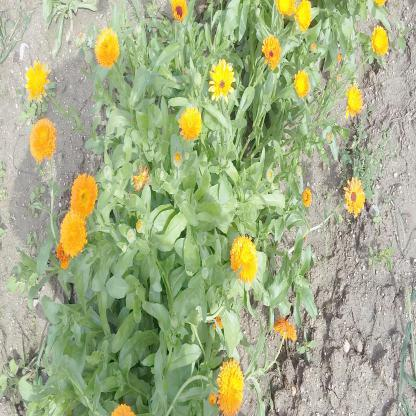marigold: (218, 359, 244, 412), (61, 210, 89, 254), (28, 122, 58, 161), (230, 234, 256, 278), (71, 176, 96, 214), (25, 61, 50, 98), (210, 59, 233, 99), (178, 106, 204, 138), (344, 176, 365, 212), (96, 31, 119, 63), (370, 24, 389, 58), (263, 36, 281, 68), (345, 84, 363, 114), (296, 0, 310, 32), (295, 70, 309, 97), (172, 0, 186, 22), (276, 0, 293, 16)
